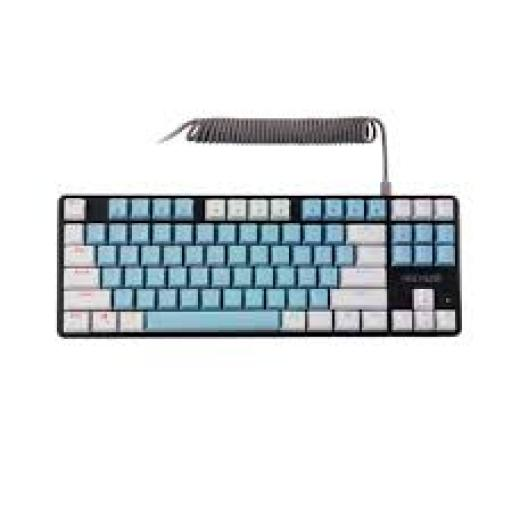keyboard: (52, 188, 470, 340)
